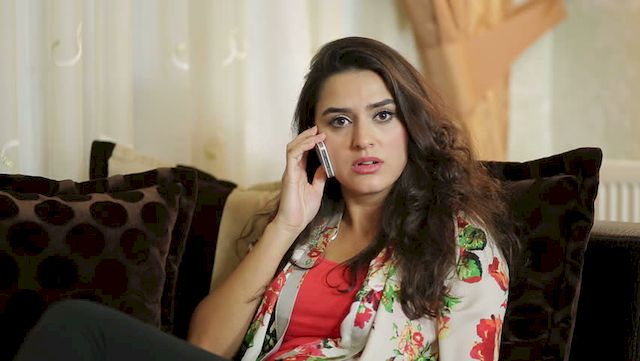phone: (300, 129, 342, 185)
talk: (274, 95, 406, 234)
